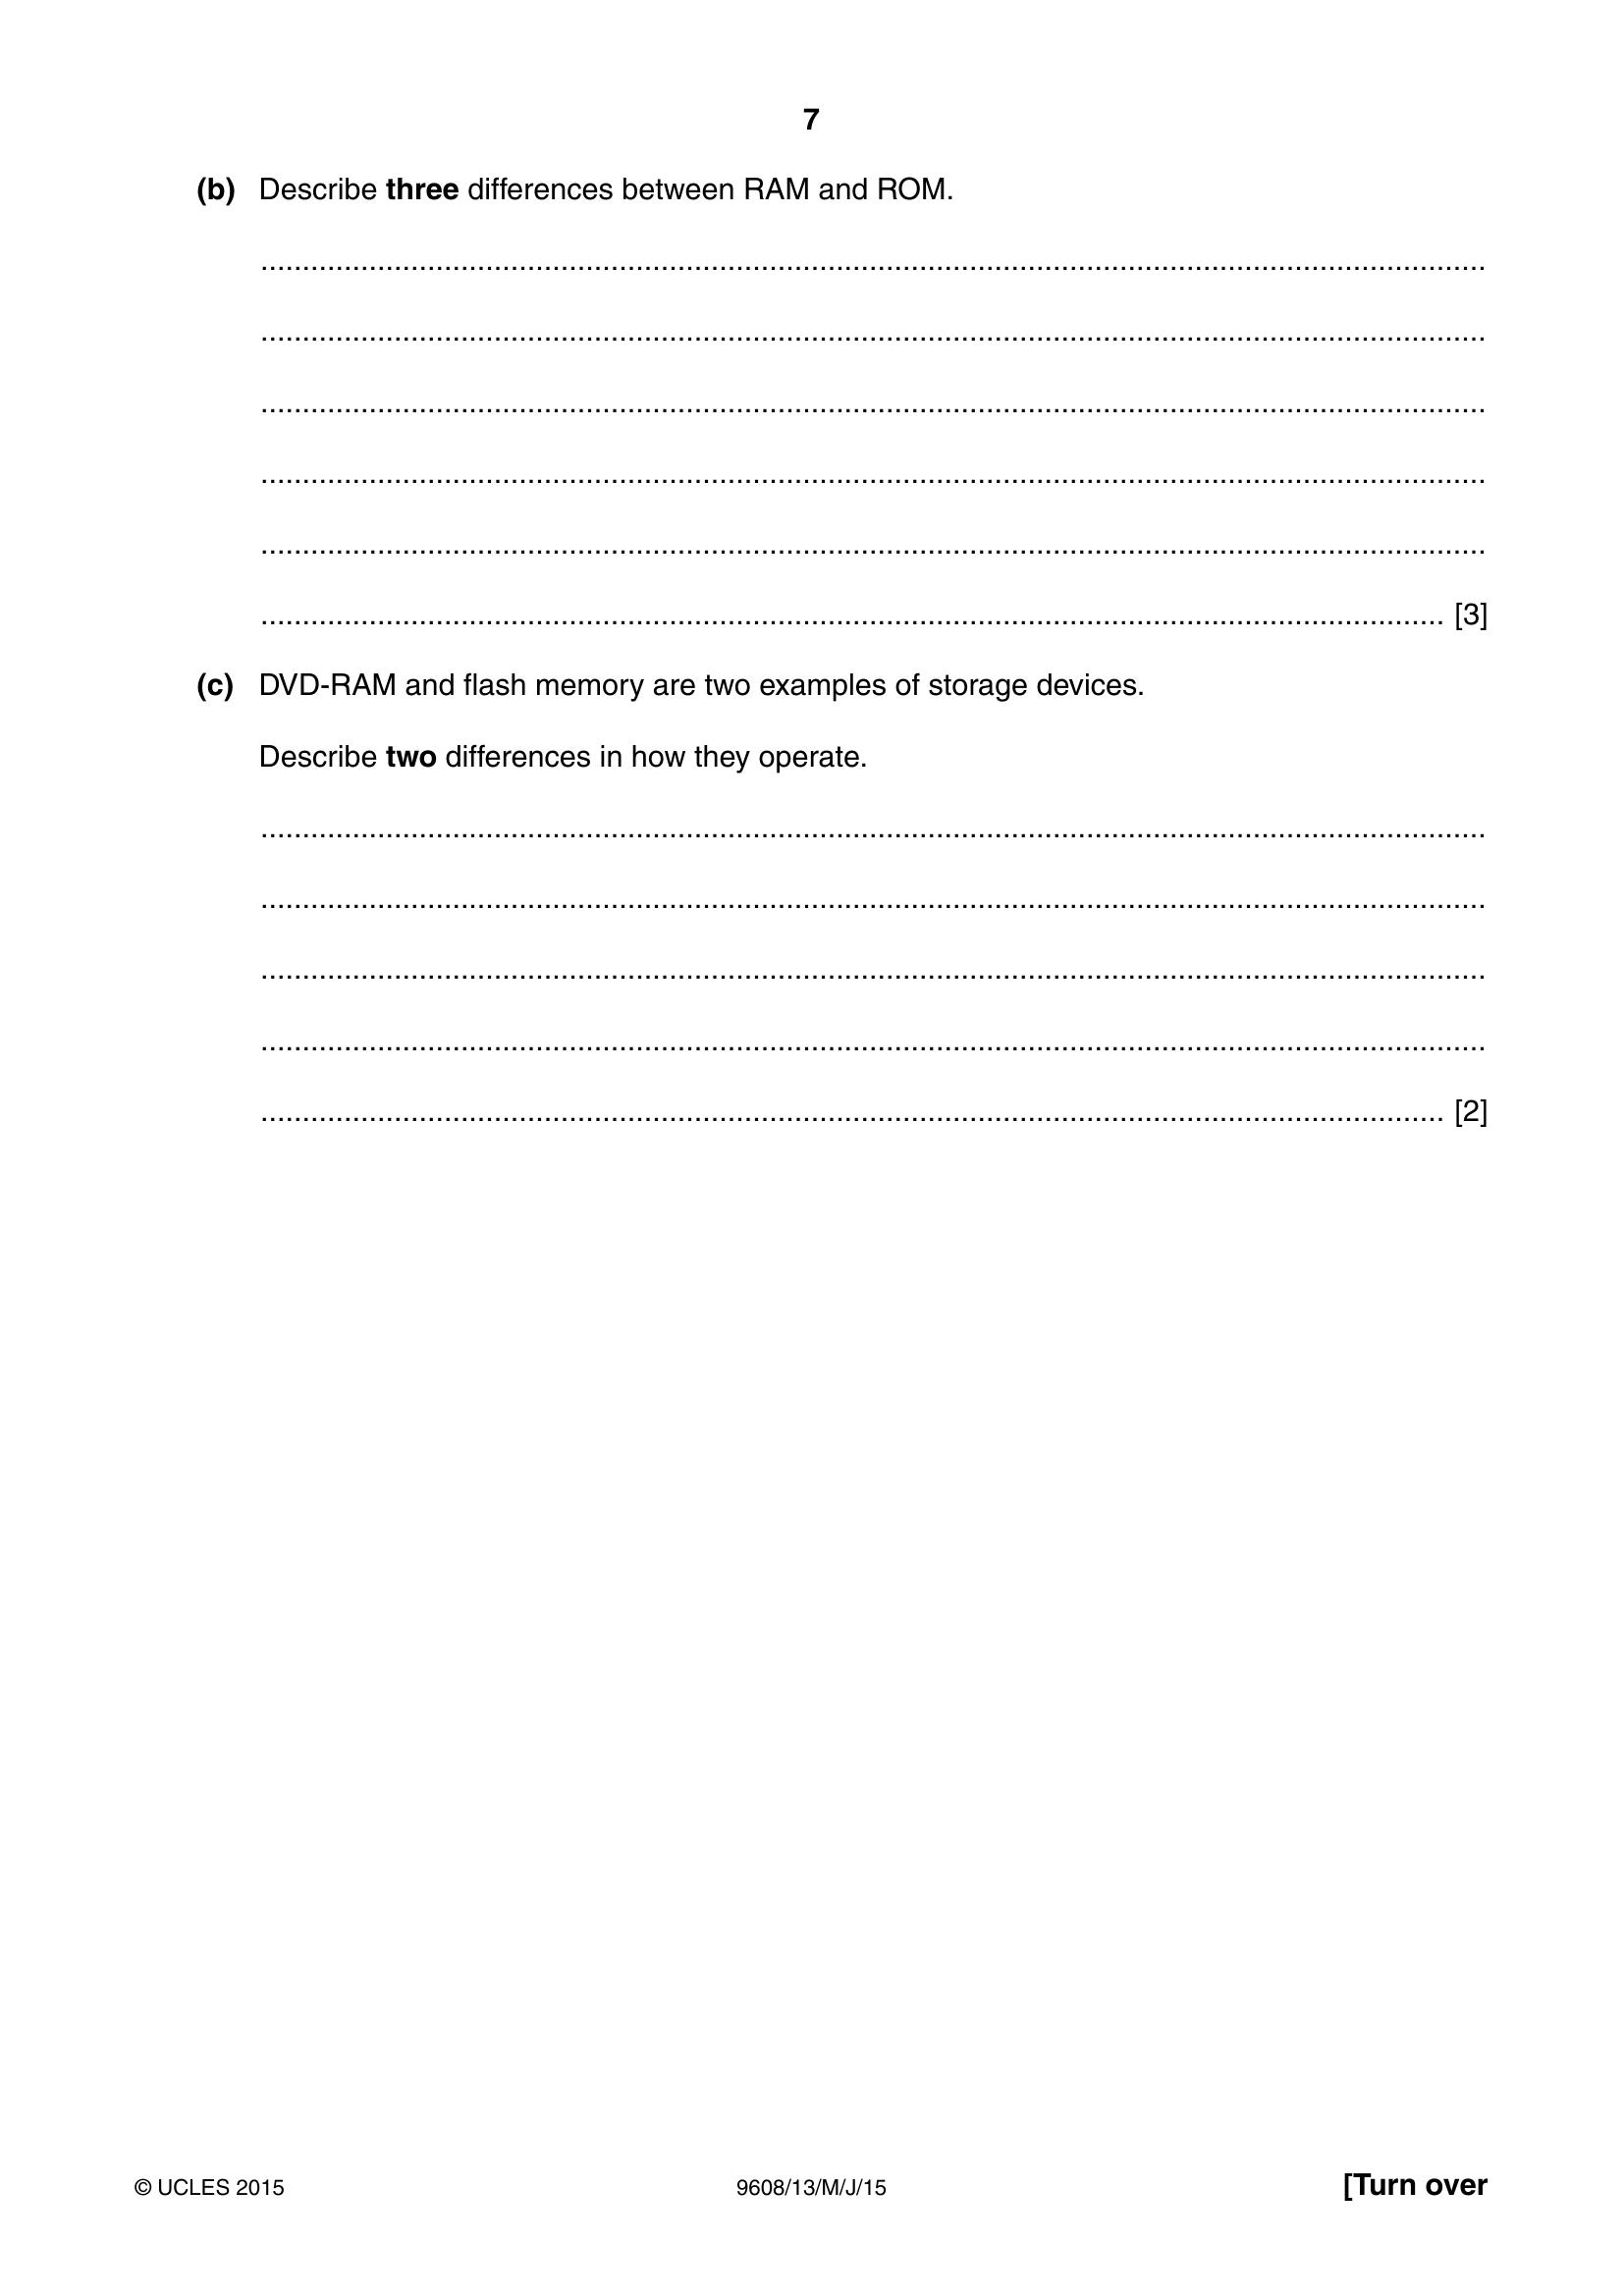continued question: (2, 155, 1624, 1165)
